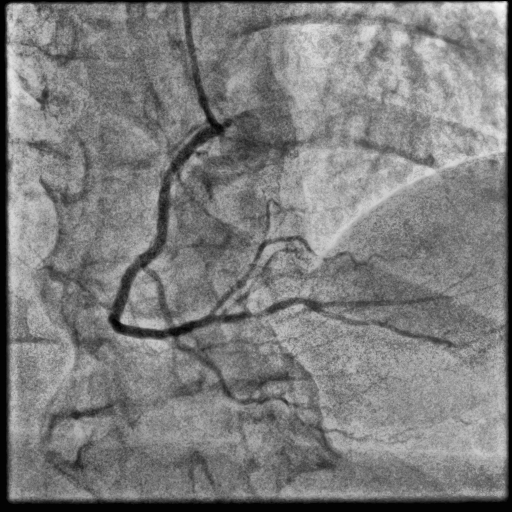pborca: (208, 235, 310, 316)
pda: (212, 298, 454, 347)
rca: (108, 124, 219, 340)
